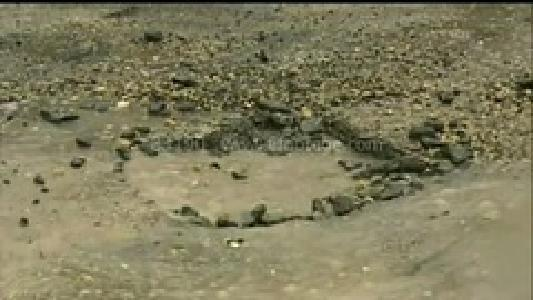pothole: (118, 111, 433, 230)
